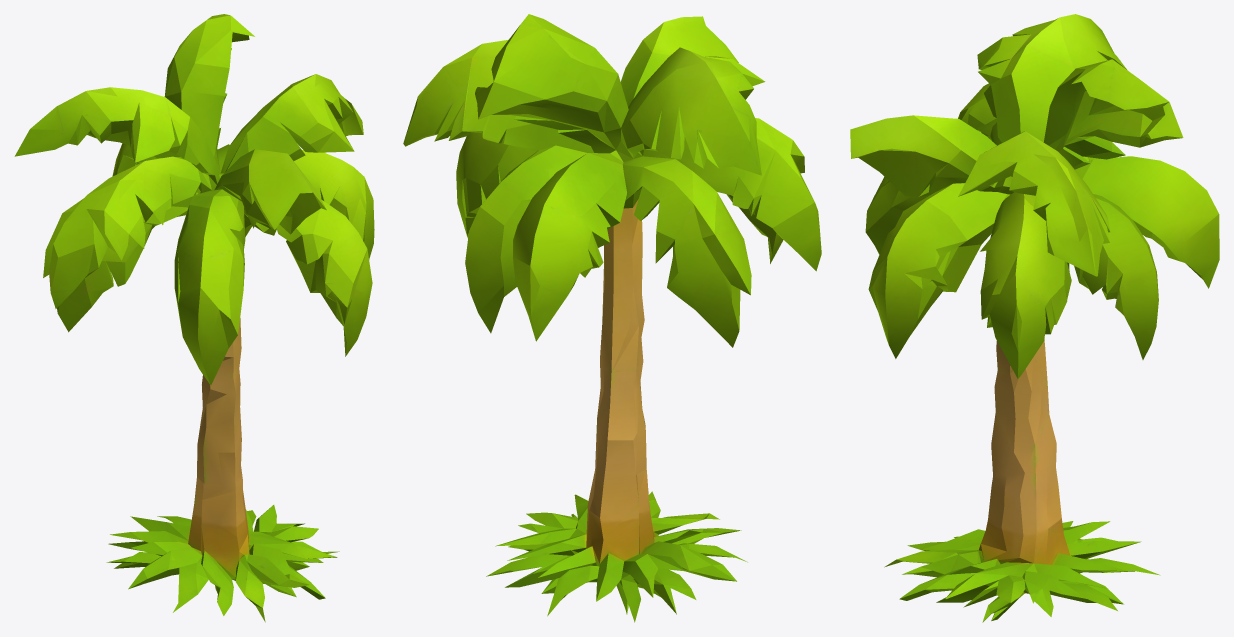
The model's file is palm.glb.
3 renders of one model, left to right at view 1: azimuth 30°, elevation 25°; view 2: azimuth 150°, elevation 25°; view 3: azimuth 270°, elevation 25°, orthographic. The views are drawn at different scales.
Parts seen in each view (by area): view 1: model; view 2: model; view 3: model.
Boxes of the visible parts, box(x1,y1,x2,y2) form: model: box(14, 14, 374, 622); model: box(403, 14, 821, 622); model: box(850, 14, 1219, 622).
Bounding box in the file's own units: 1.28 × 1.89 × 1.16.
Materials: 1 (1 with a texture image).
